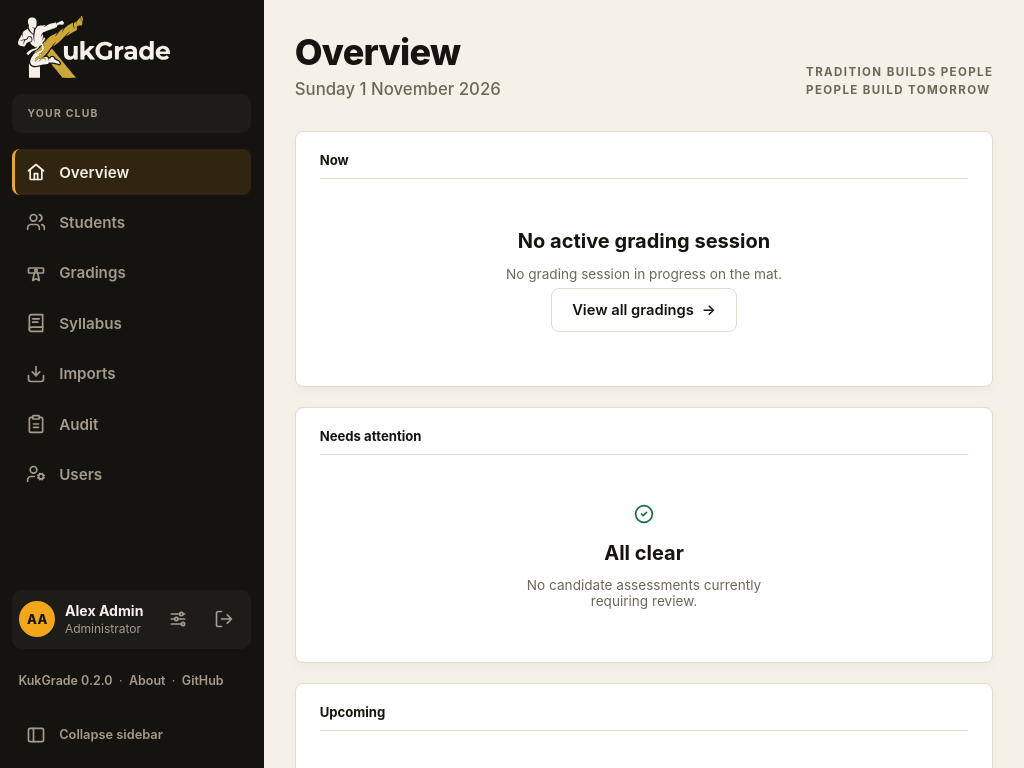
Scenario: Navigation rail and role-gated routes › grants full navigation and route access for an Administrator
Check: the text "Alex Admin" is shown, box x1=65 y1=602 x2=143 y2=621
Check: the link "Audit" is shown, box x1=26 y1=414 x2=98 y2=434
Click the link "Users": (64, 474) x1=26 y1=464 x2=102 y2=484
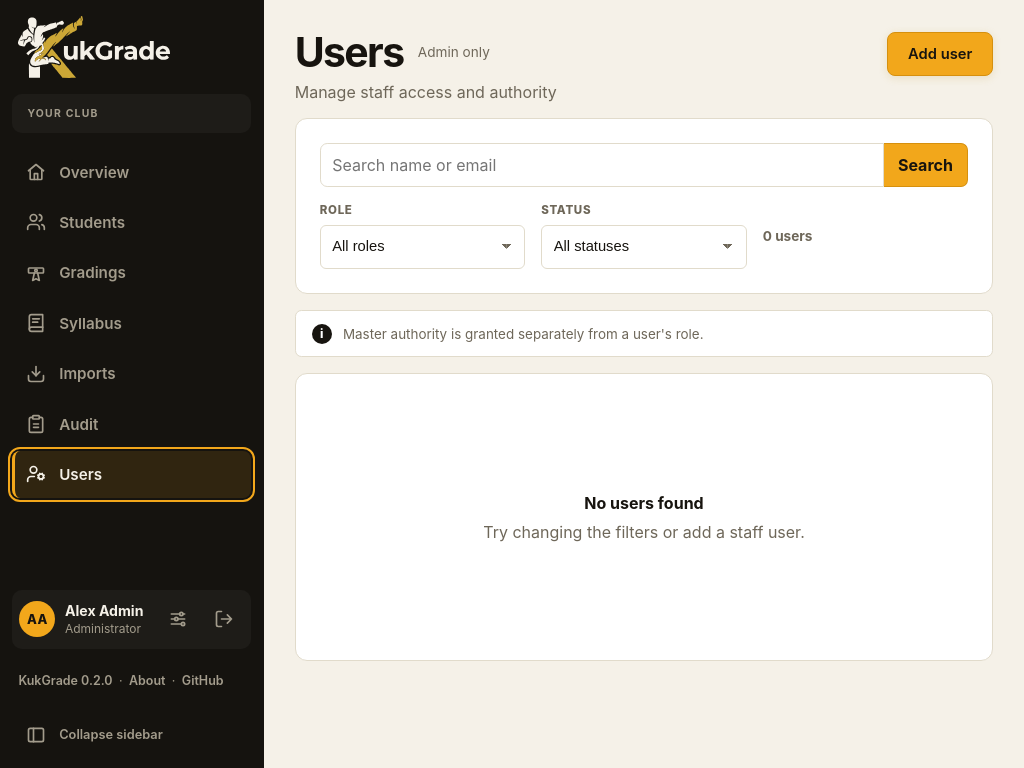
Check: the heading "Users" is shown, box x1=295 y1=32 x2=403 y2=73
Click the link "Audit": (62, 424) x1=26 y1=414 x2=98 y2=434
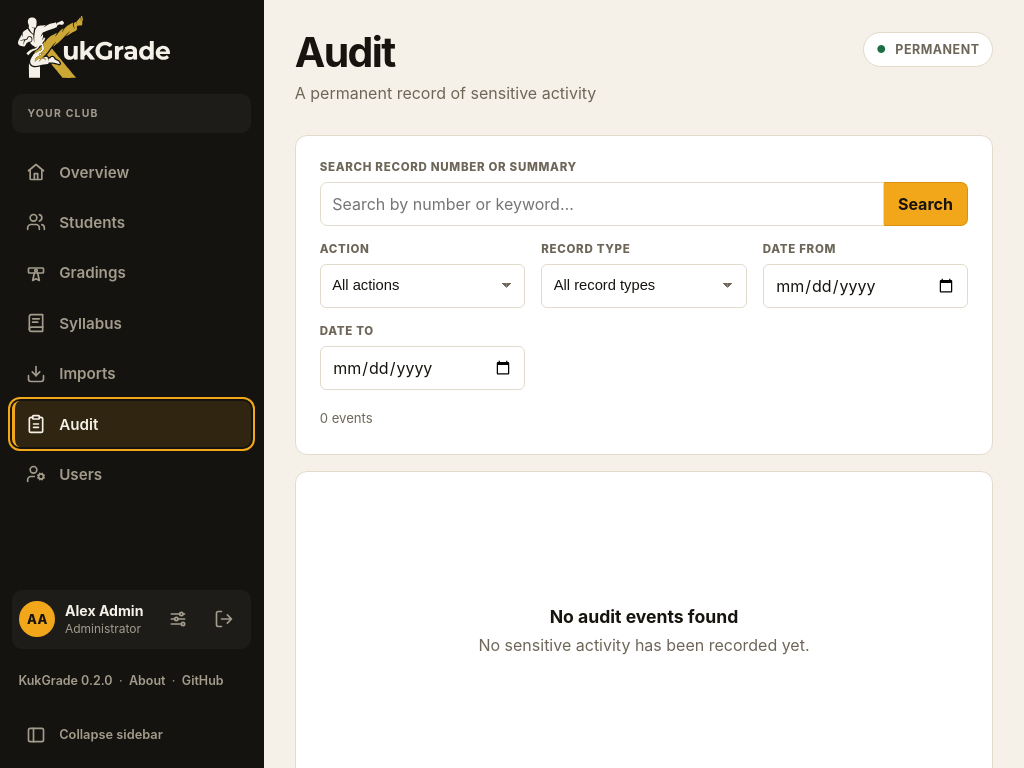
Check: the heading "Audit" is shown, box x1=295 y1=27 x2=394 y2=77
